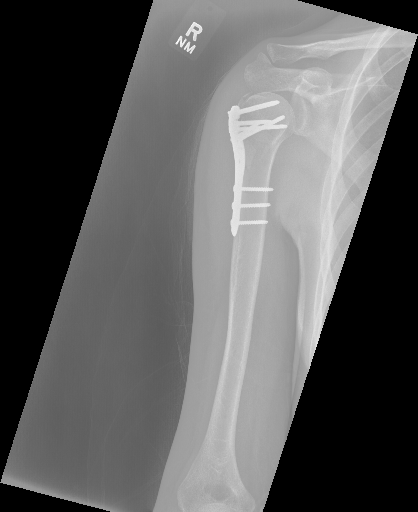implant: (224, 94, 286, 241)
